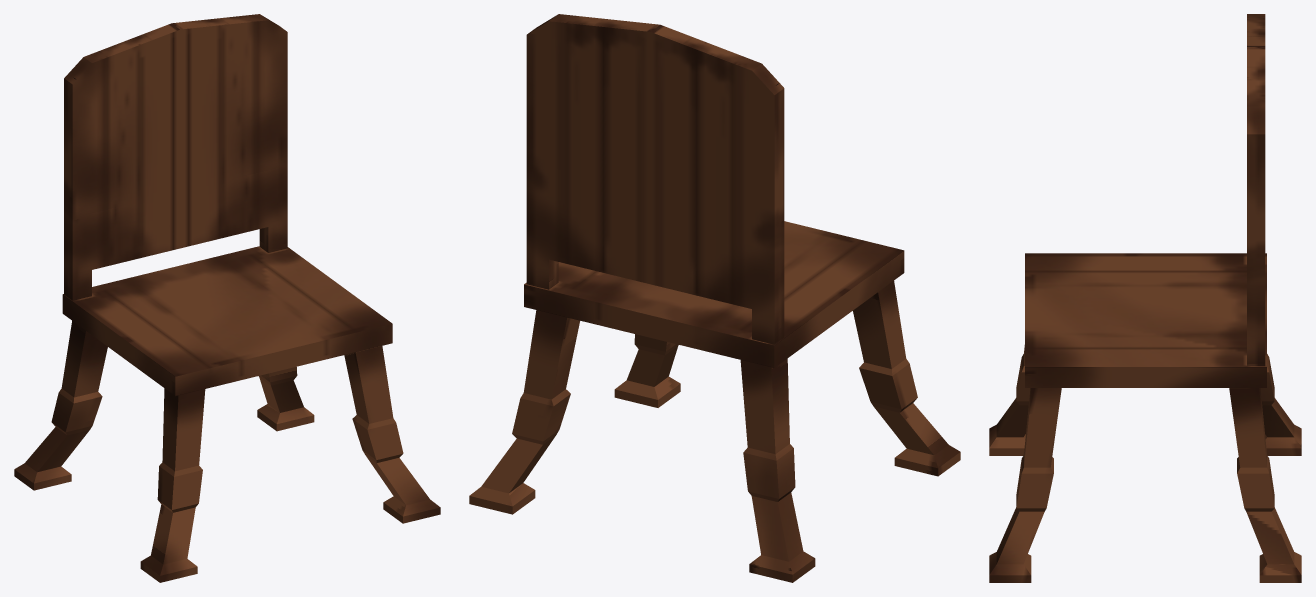
Rendered from Chair 1.glb.
The picture shows the model from 3 angles, left to right: view 1: azimuth 30°, elevation 25°; view 2: azimuth 150°, elevation 25°; view 3: azimuth 270°, elevation 25°; orthographic projection. The views are drawn at different scales.
Parts seen in each view (by area): view 1: Cube.004; view 2: Cube.004; view 3: Cube.004.
Part boxes in pixels (left/top/right/bottom): Cube.004: left=14, top=14, right=440, bottom=582; Cube.004: left=469, top=14, right=960, bottom=582; Cube.004: left=989, top=14, right=1301, bottom=582.
Bounding box in the file's own units: 0.4882 × 0.7172 × 0.4391.
Materials: 1 (1 with a texture image).
